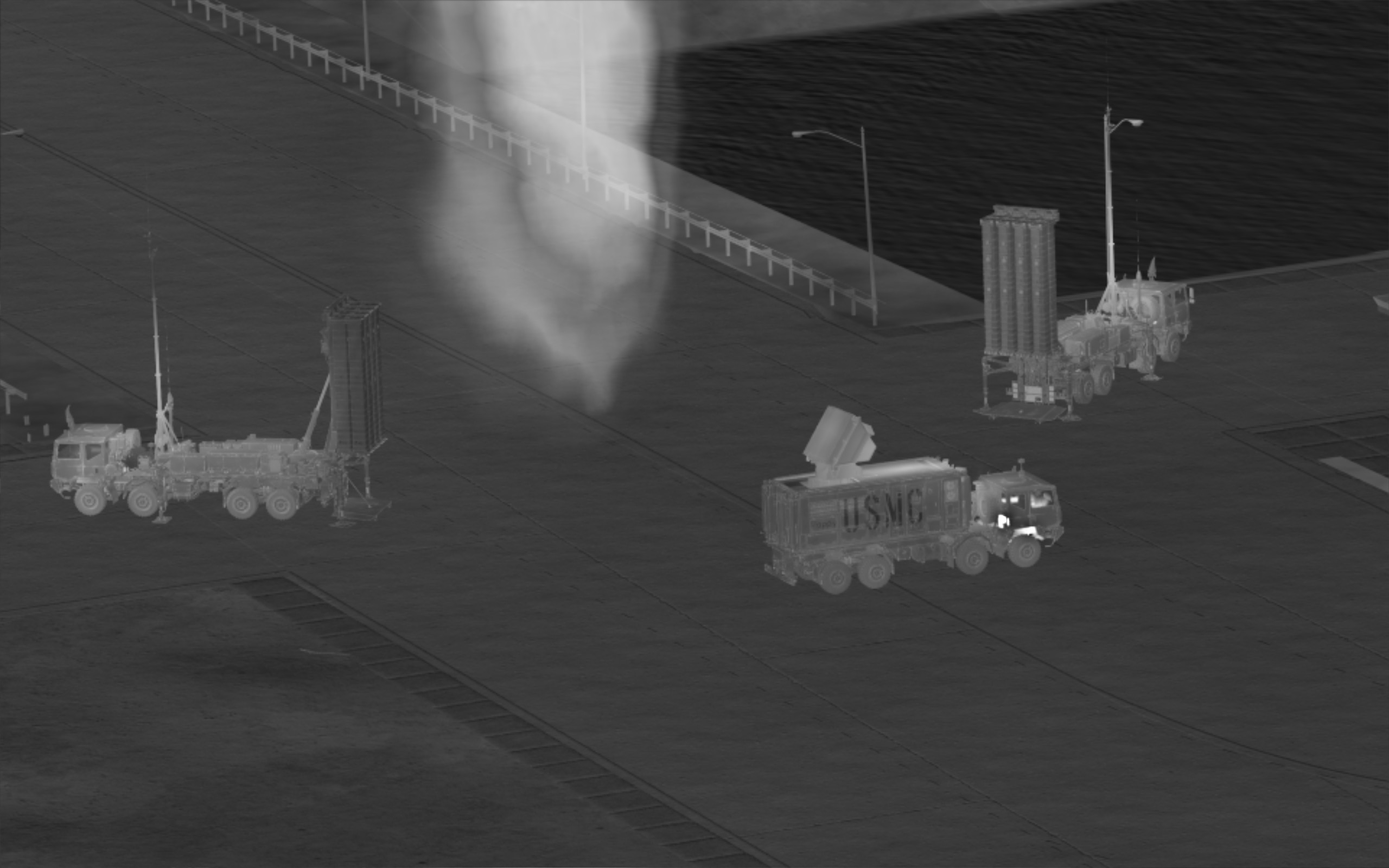spaa_TEL: (48, 295, 397, 524), (973, 204, 1196, 421)
spaa_tads: (759, 406, 1064, 595)
